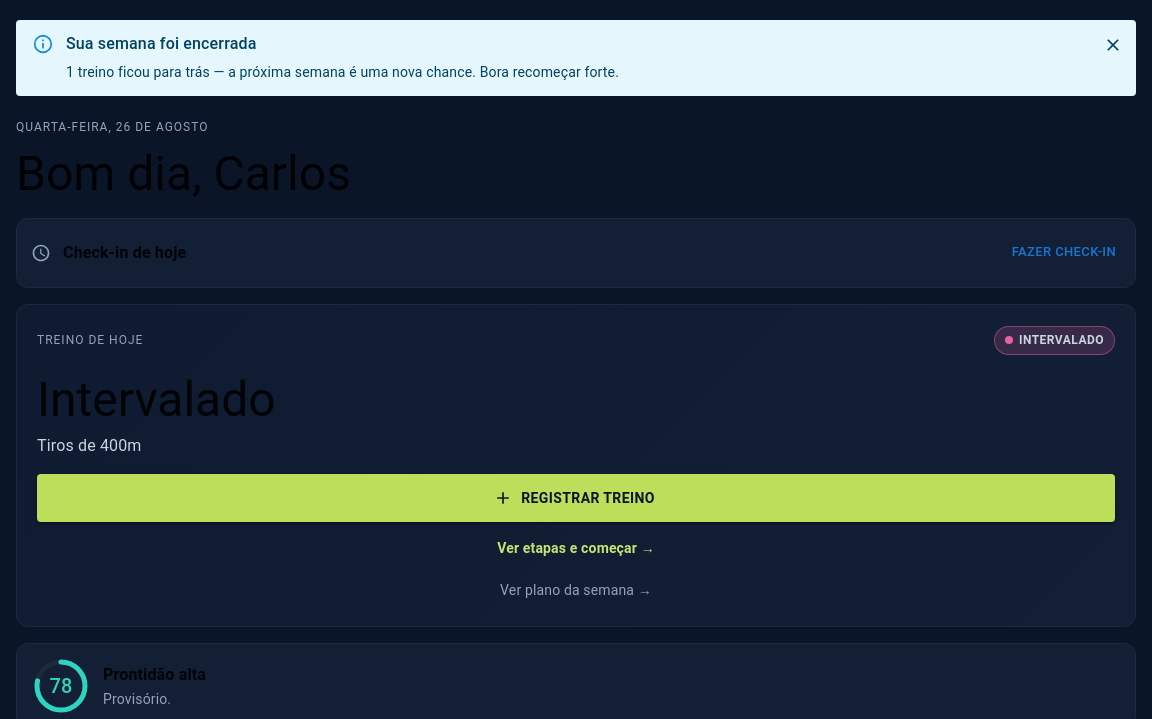
AthleteHomePage › banner de semana encerrada › some ao dispensar (X)
Check: the text "Sua semana foi encerrada" is shown, box x1=66 y1=34 x2=256 y2=53
Click the button named "close".
click(1113, 45)  # box x1=1098 y1=30 x2=1128 y2=60
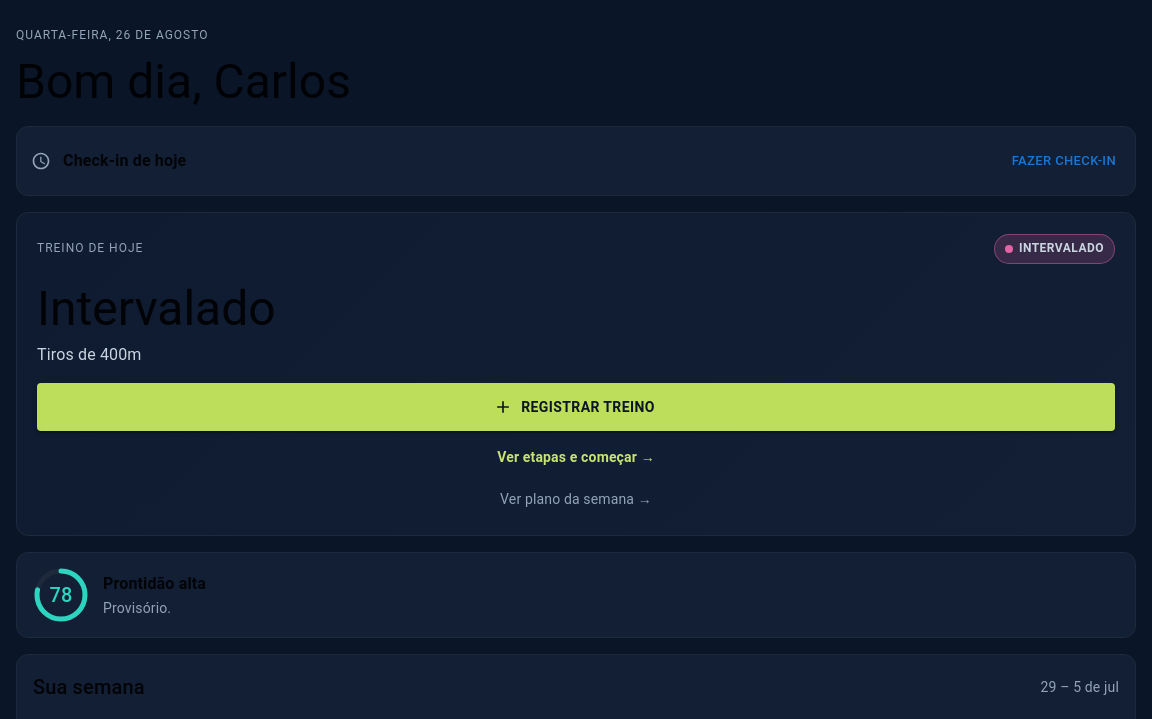
Check: the text "Sua semana foi encerrada" is gone
